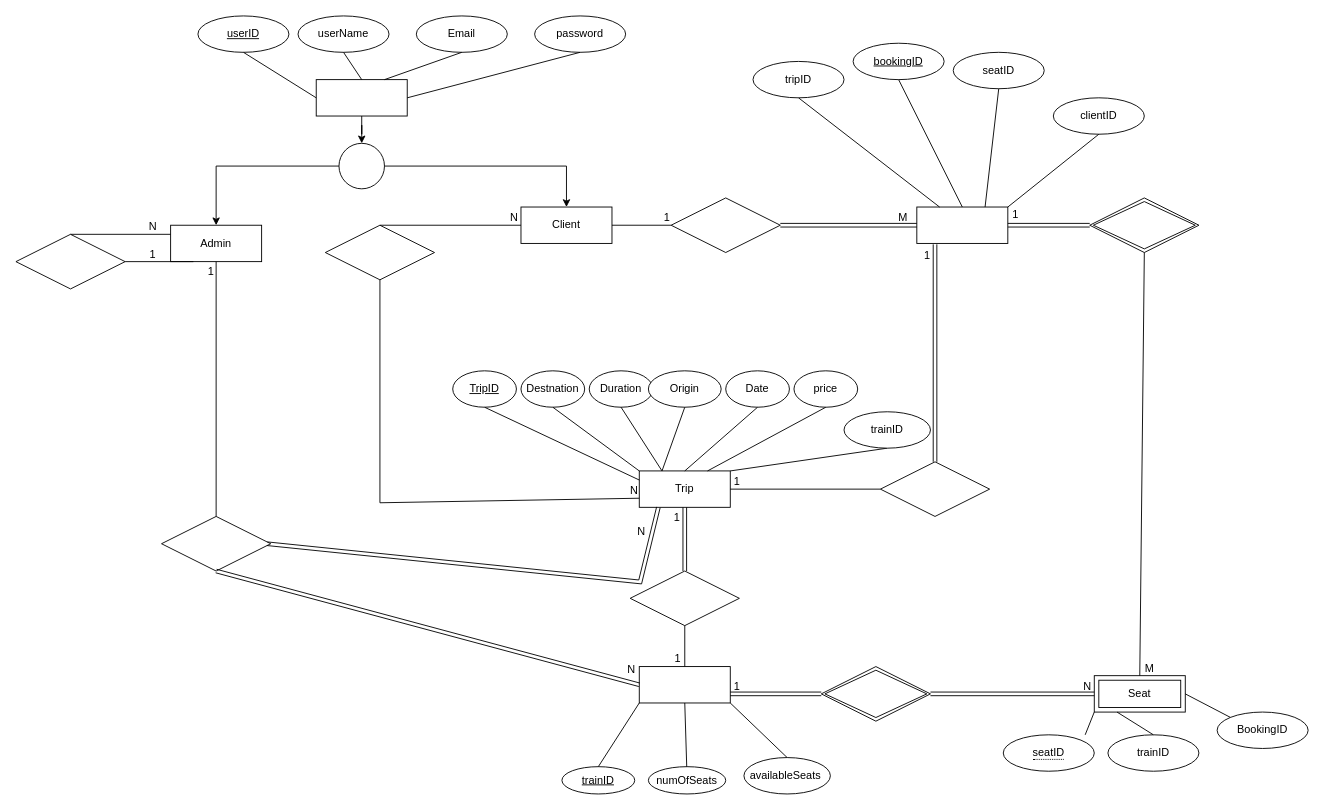
The diagram is 1324 pixels wide and 810 high, and some of its shapes have lost their labels. Each missing label, with the centre of its shape:
"Add" belongs at pixel 216 543.
"Assigns" belongs at pixel 1144 225.
"Book" belongs at pixel 725 225.
"Booking" belongs at pixel 962 224.
"By" belongs at pixel 684 598.
"Choose" belongs at pixel 379 252.
"has" belongs at pixel 875 693.
"Register" belongs at pixel 70 261.
"Reserves" belongs at pixel 935 488.
"Train" belongs at pixel 684 684.
"User" belongs at pixel 361 97.
